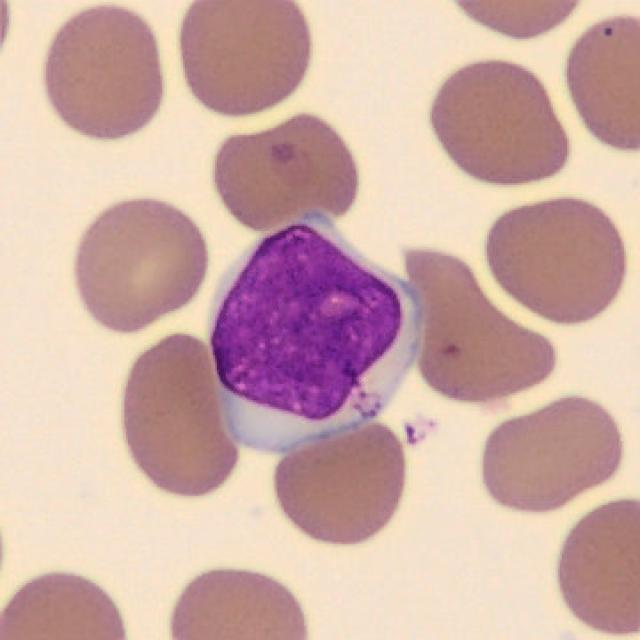Linfocito atipico: (210, 224, 423, 457)
